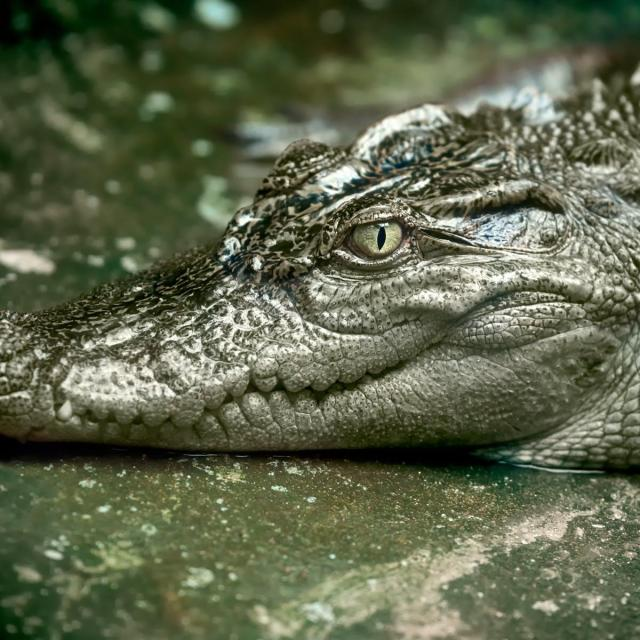crocodile: (3, 80, 639, 471)
